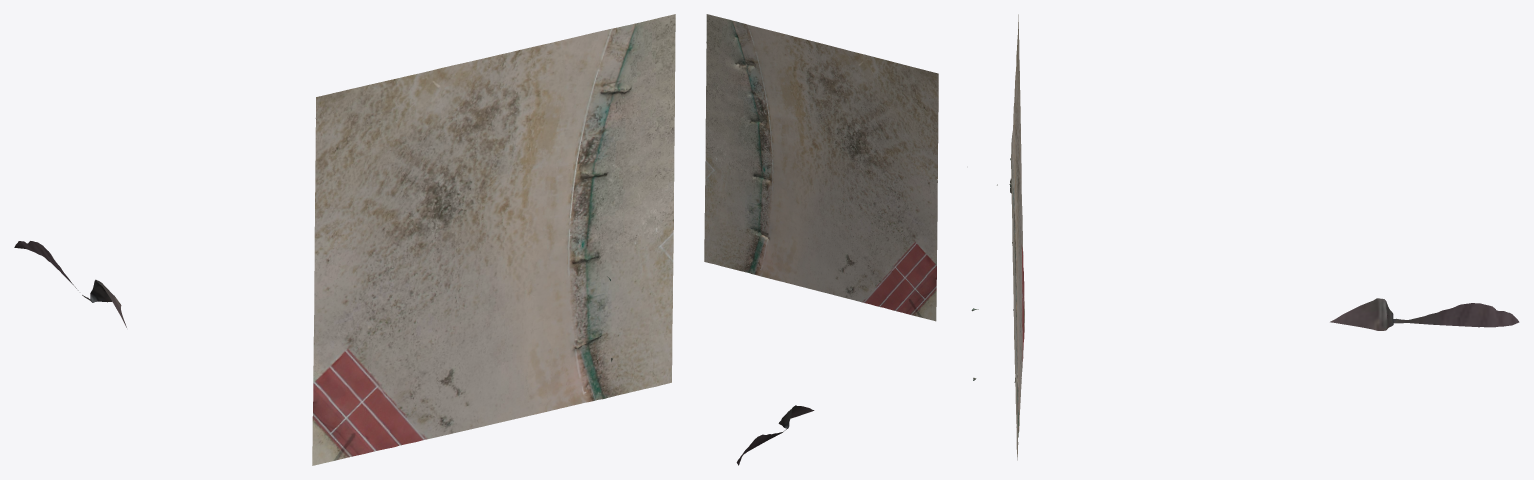
File: Tile_+017_+013.fbx
The picture shows the model from 3 angles, left to right: view 1: azimuth 30°, elevation 25°; view 2: azimuth 150°, elevation 25°; view 3: azimuth 270°, elevation 25°; orthographic projection. The views are drawn at different scales.
Parts seen in each view (by area): view 1: DefaultName; view 2: DefaultName; view 3: DefaultName.
Boxes of the visible parts, x1,y1,x2,y2 form: DefaultName: (14, 14, 675, 465); DefaultName: (704, 14, 938, 465); DefaultName: (971, 14, 1519, 460).
Size of the model in its own units: 22.54 by 22.54 by 36.59.
